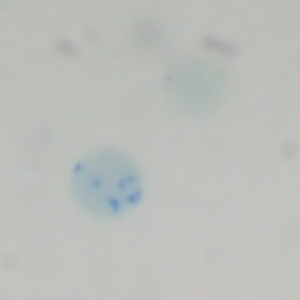aggregate reticulocyte: (68, 146, 144, 220)
erythrocyte: (158, 49, 234, 120)
